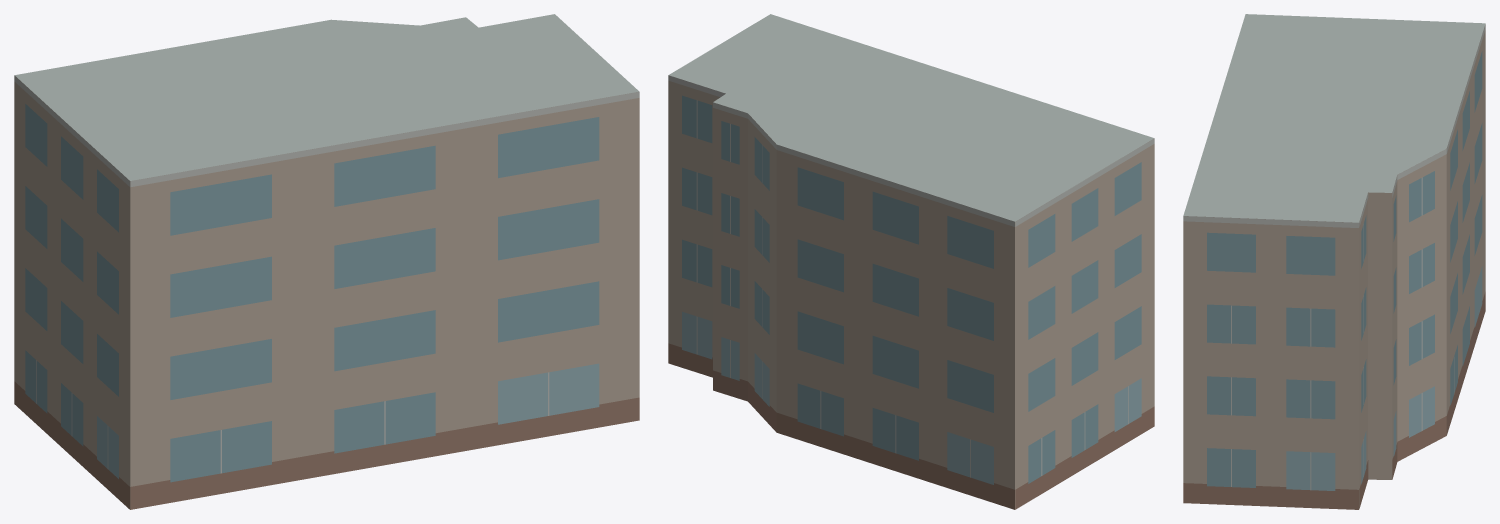
File: survey-upis-33028608.glb
3 views of the same model, side by side, from view 1: azimuth 30°, elevation 25°; view 2: azimuth 150°, elevation 25°; view 3: azimuth 270°, elevation 25° (orthographic). The views are drawn at different scales.
Visible parts, largest first — view 1: survey-upis-33028608.tmp; view 2: survey-upis-33028608.tmp; view 3: survey-upis-33028608.tmp.
Part boxes in pixels (x1=…): survey-upis-33028608.tmp: x1=14, y1=14, x2=639, y2=509; survey-upis-33028608.tmp: x1=668, y1=14, x2=1154, y2=509; survey-upis-33028608.tmp: x1=1183, y1=14, x2=1485, y2=509.
Bounding box in the file's own units: 20.12 × 12.9 × 12.32.
